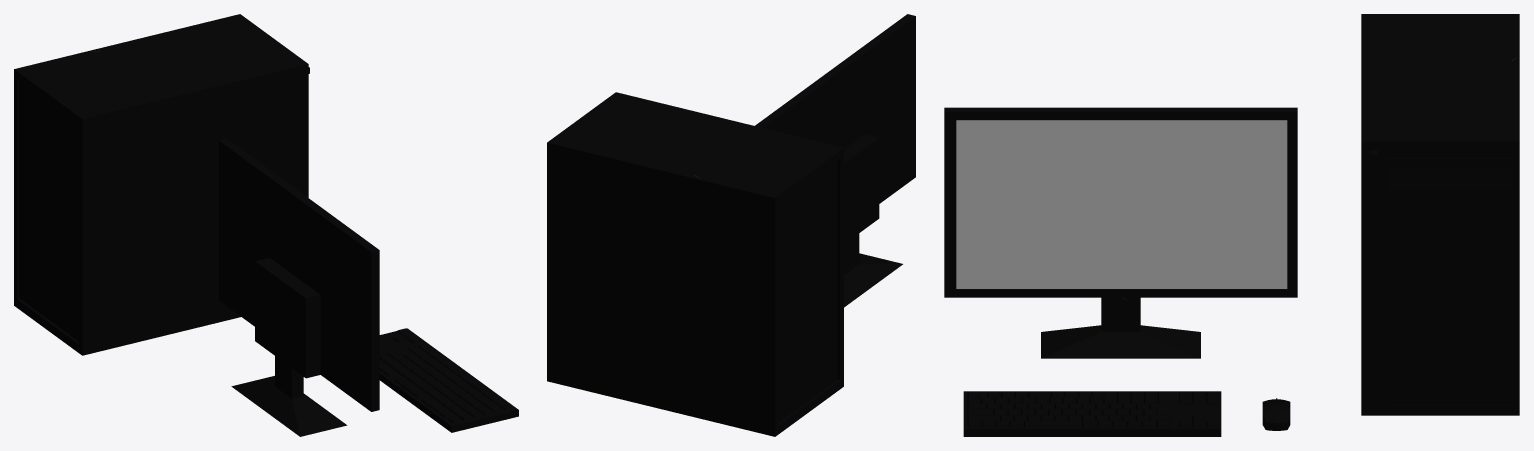
The model's file is DesktopPC.fbx.
3 views of the same model, side by side, from view 1: azimuth 30°, elevation 25°; view 2: azimuth 150°, elevation 25°; view 3: azimuth 270°, elevation 25° (orthographic). The views are drawn at different scales.
Visible parts, largest first — view 1: Desktop, Monitor, Keys, Keyboard; view 2: Desktop, Monitor; view 3: Desktop, Screen, Monitor, Keys, Keyboard, Mouse.
Part boxes in pixels (bbox=[...]): Desktop: bbox=[14, 14, 309, 355]; Monitor: bbox=[219, 138, 379, 436]; Keys: bbox=[379, 328, 514, 423]; Keyboard: bbox=[379, 328, 518, 432]; Desktop: bbox=[547, 92, 843, 436]; Monitor: bbox=[755, 14, 915, 307]; Desktop: bbox=[1361, 14, 1519, 415]; Screen: bbox=[956, 120, 1287, 288]; Monitor: bbox=[944, 107, 1297, 358]; Keys: bbox=[967, 391, 1219, 428]; Keyboard: bbox=[963, 391, 1221, 436]; Mouse: bbox=[1262, 399, 1290, 430].
Size of the model in its own units: 234 by 200 by 381.
Materials: 2 (2 with a texture image).
